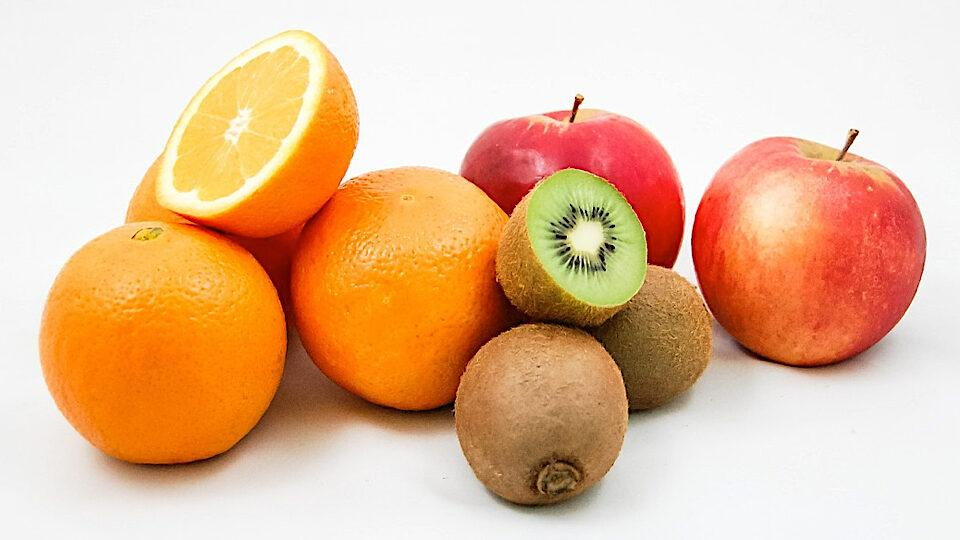Apple: (691, 140, 919, 362), (461, 107, 699, 260)
Kiwi: (503, 160, 714, 391), (463, 319, 633, 494)
Orange: (48, 229, 291, 461), (295, 162, 502, 397), (136, 31, 354, 219)
